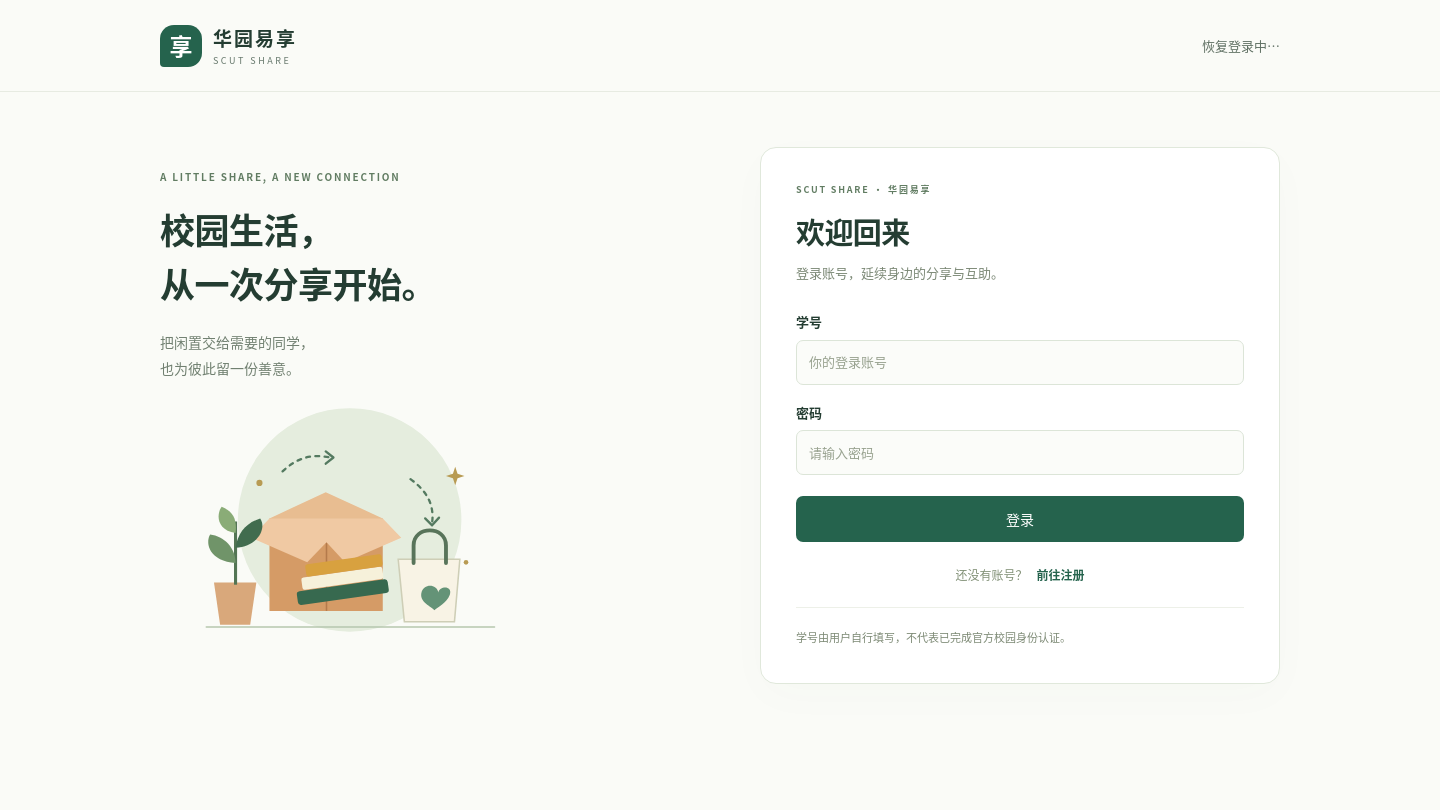
Test: Phase 1 用户系统 › 登录成功跳转首页并显示昵称，不存储认证令牌
Type "TEST_2026_001" into the field labelled "学号" at (1020, 362), box 796,340 -> 1244,384
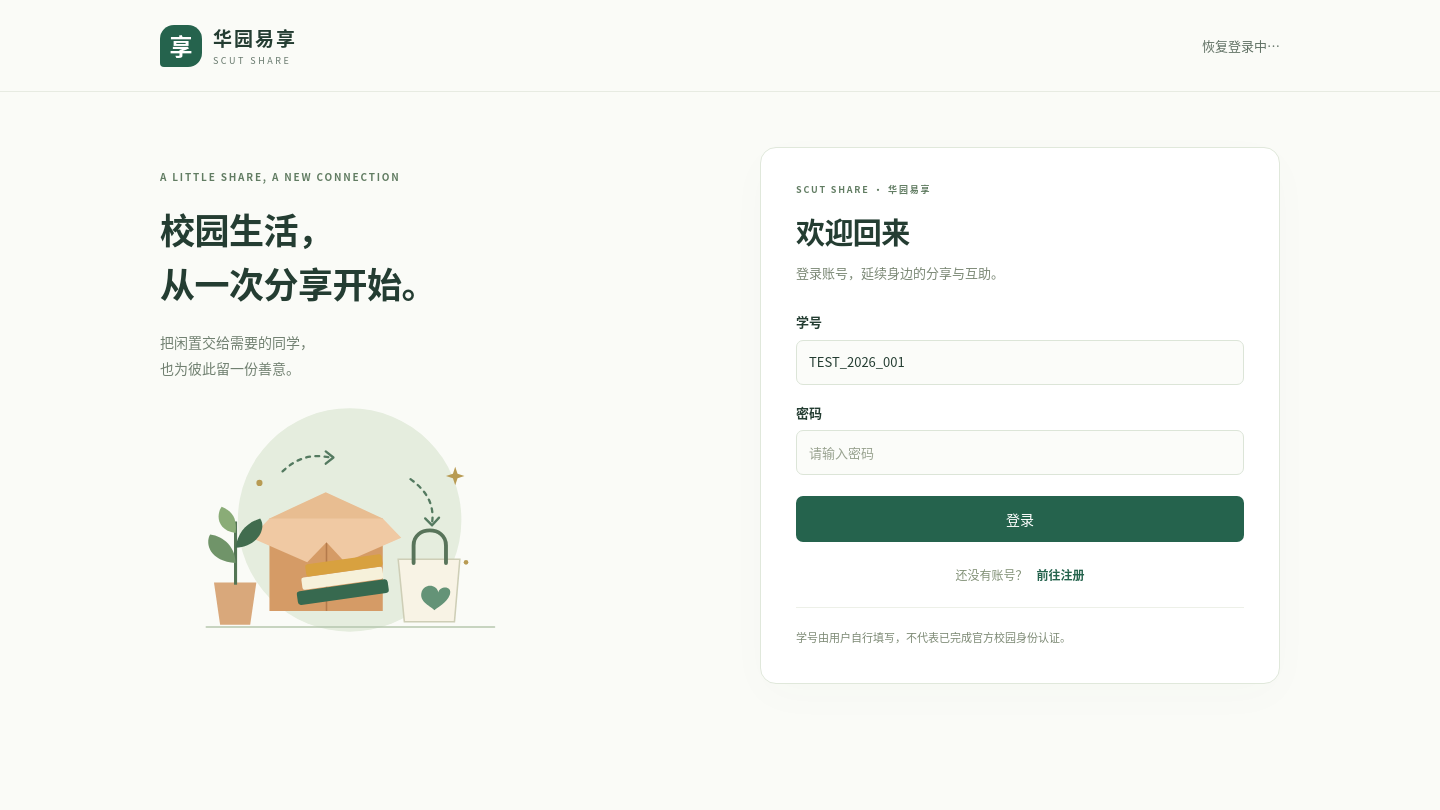
Type "Test-only-password-123" into the password field labelled "密码" at (1020, 452), box 796,430 -> 1244,475
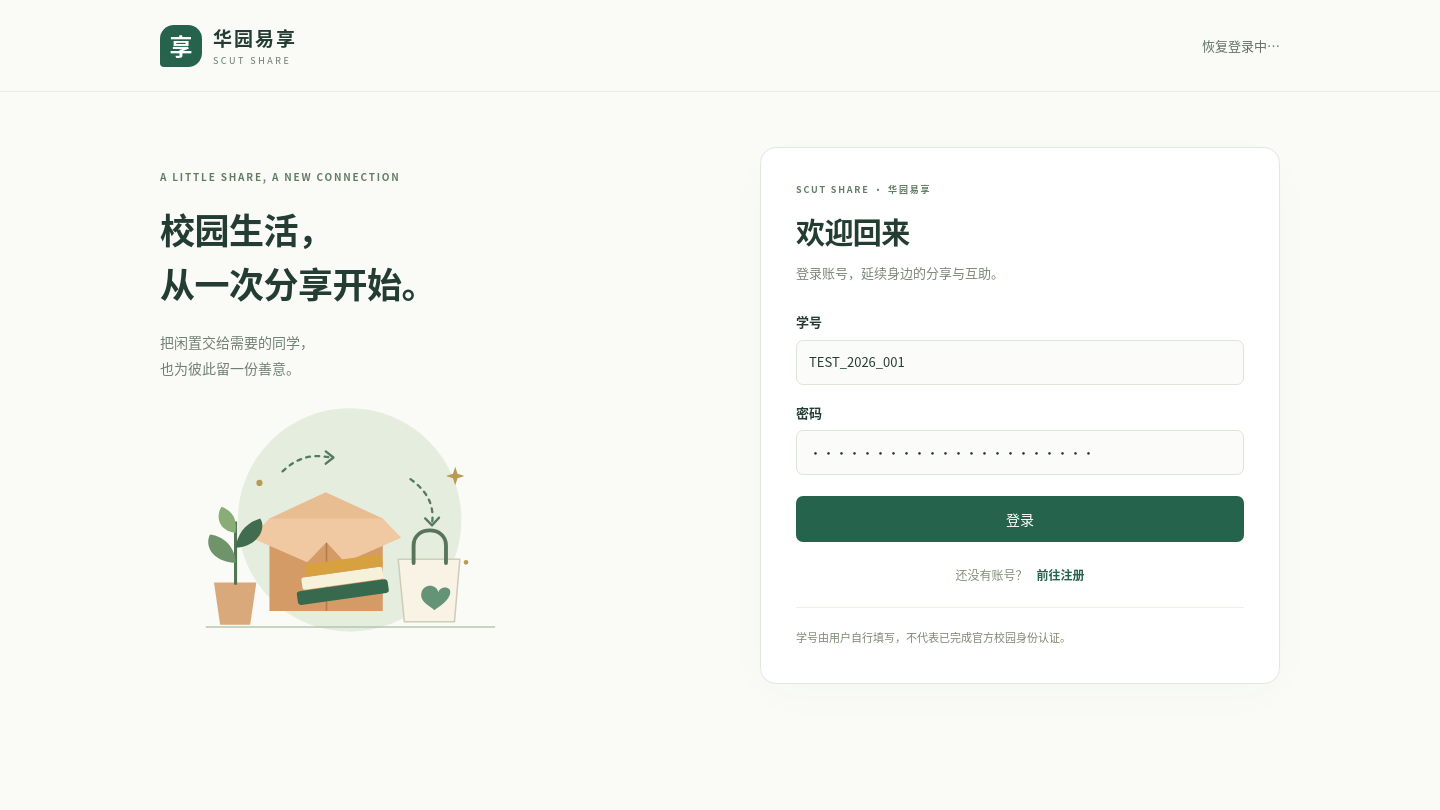
Click the button "登录" at (1020, 519), box 796,496 -> 1244,542
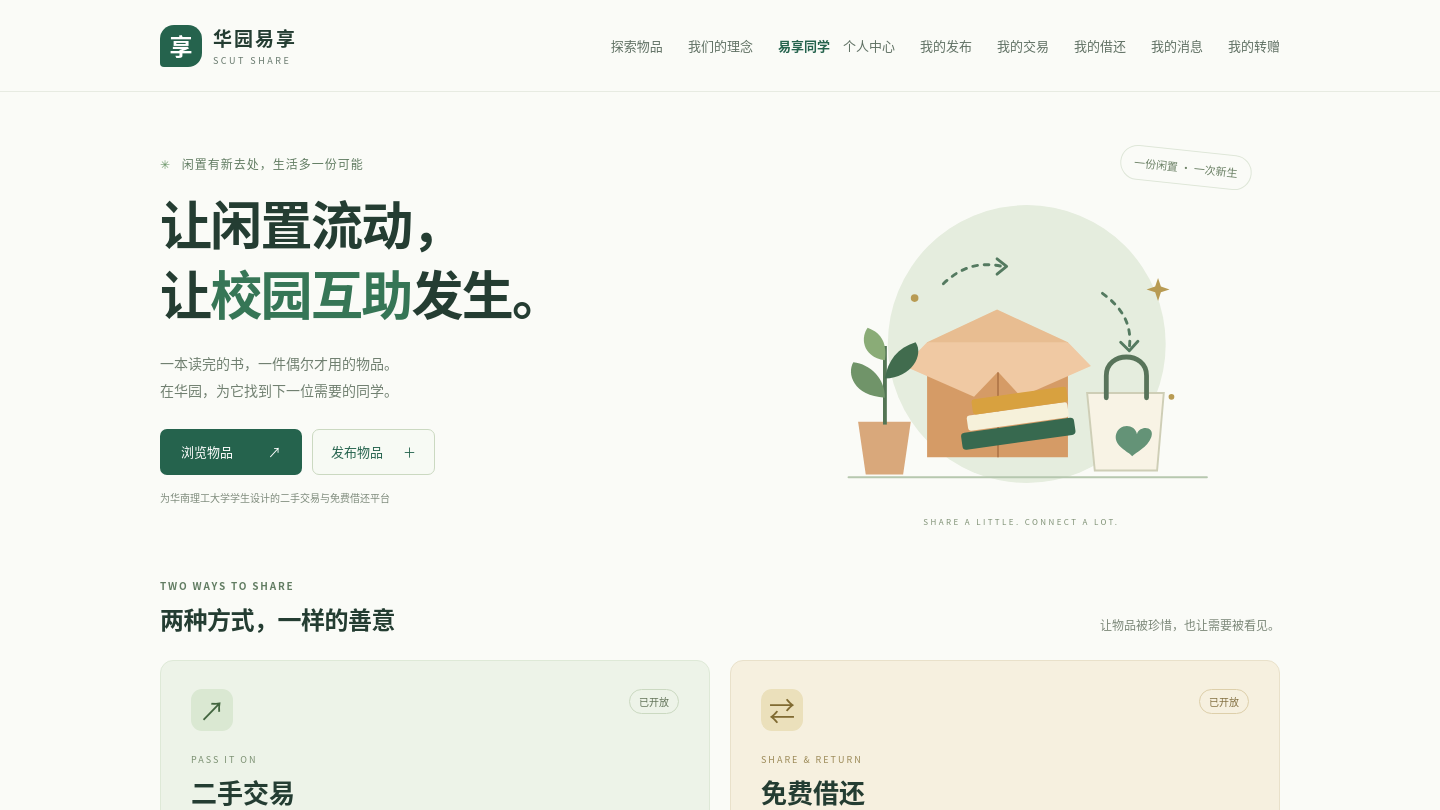
Expected: the heading "校园互助" is shown, 160,185 -> 562,330
Expected: the text "易享同学" is shown, 778,36 -> 830,55
Expected: the 1st heading shows "校园互助", 210,255 -> 412,330
